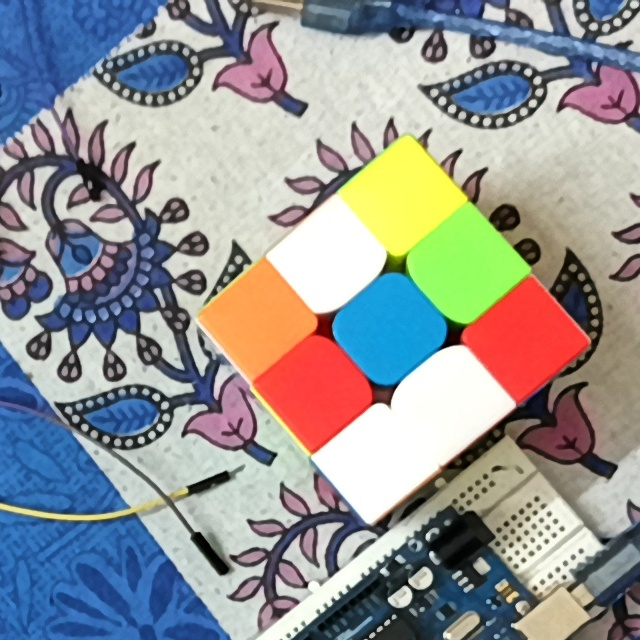tile: (287, 359, 351, 424), (436, 233, 498, 300), (343, 432, 407, 495), (495, 309, 558, 372), (227, 290, 290, 352), (361, 297, 423, 359), (419, 369, 483, 429), (299, 225, 358, 289), (369, 167, 433, 222)
